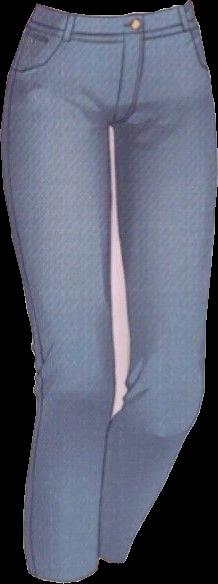Hemline: (29, 565, 103, 583)
Pantleg: (1, 4, 125, 581), (99, 0, 216, 562)
Waistline: (25, 22, 199, 41), (36, 0, 195, 18)
